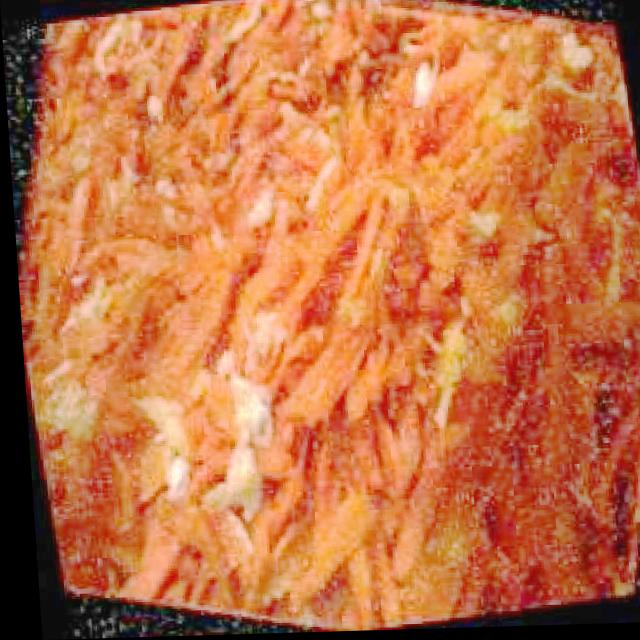carrot_eggs: (7, 0, 640, 640)
